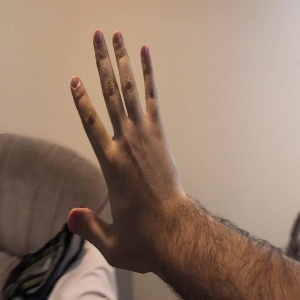hand: (68, 30, 185, 264)
